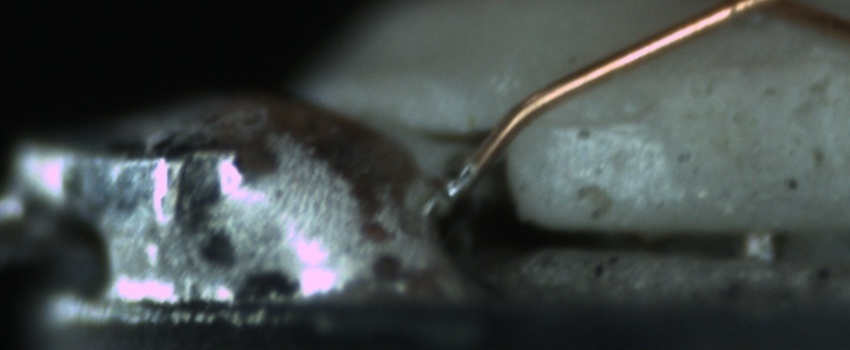CL: (712, 0, 813, 20)
DL: (538, 96, 662, 153)
